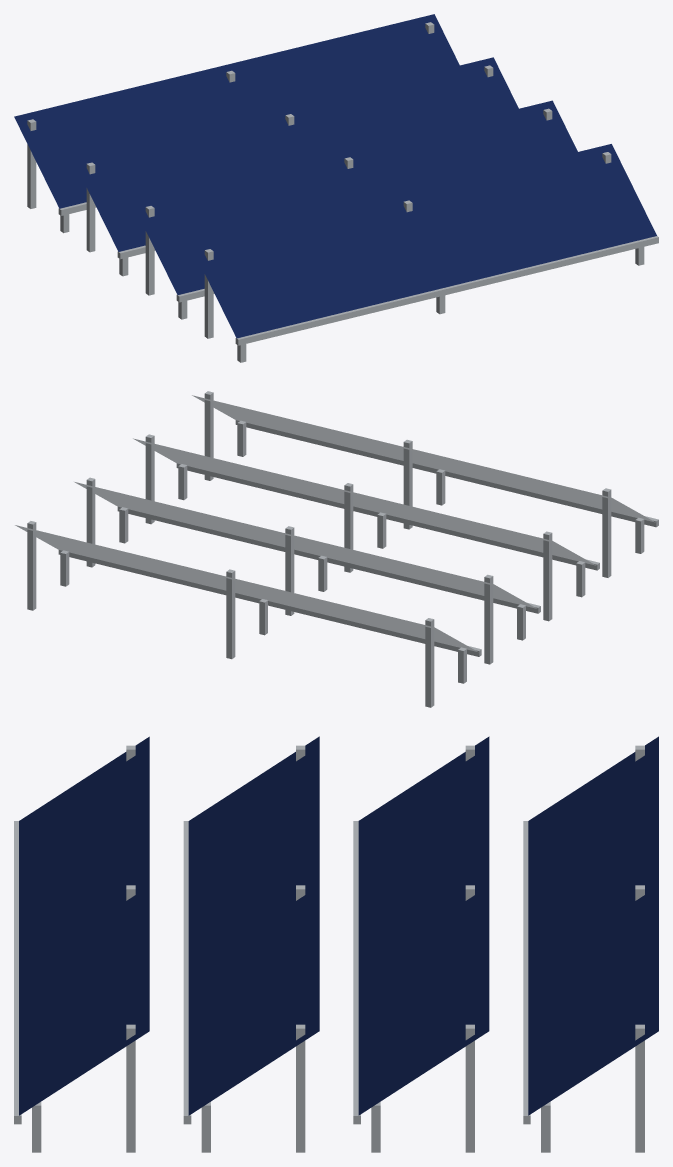
File: power_plant_solar_panels.glb
3 views of the same model, one above another, from view 1: azimuth 30°, elevation 25°; view 2: azimuth 150°, elevation 25°; view 3: azimuth 270°, elevation 25° (orthographic). The views are drawn at different scales.
Size of the model in its own units: 14.8 by 2.98 by 13.68.
